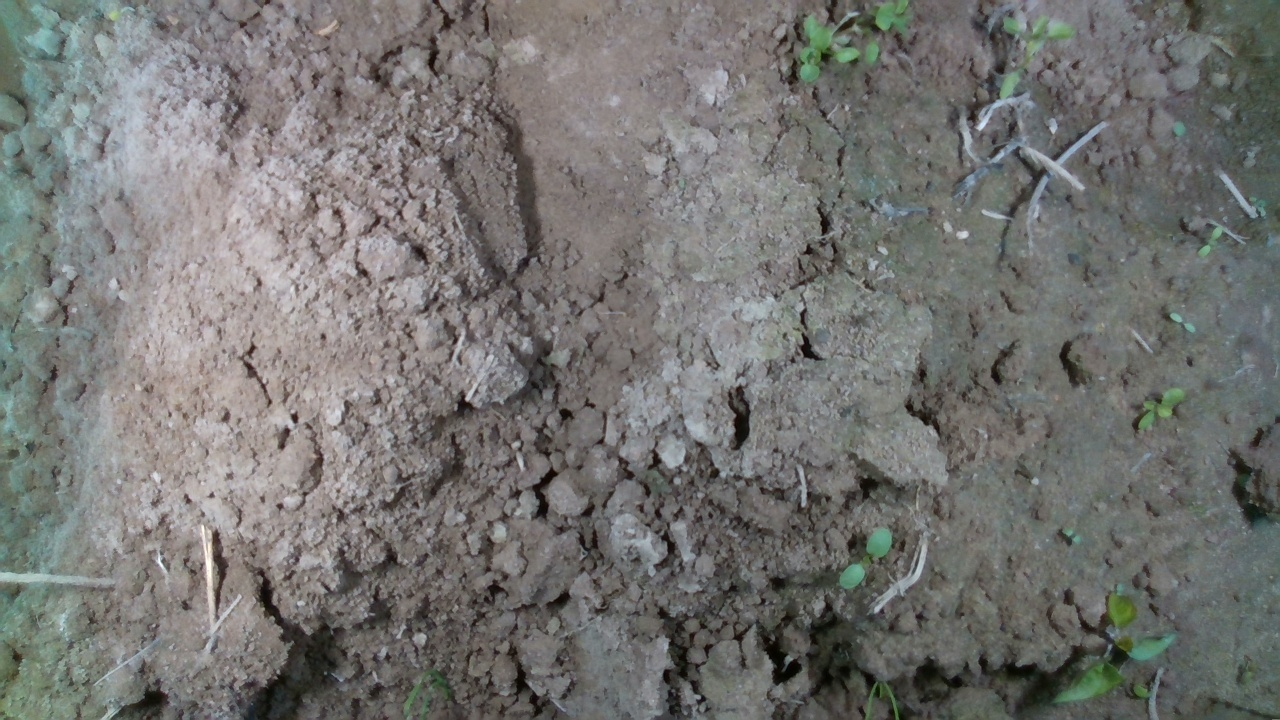weed: (1135, 386, 1187, 433), (1196, 225, 1224, 260)
